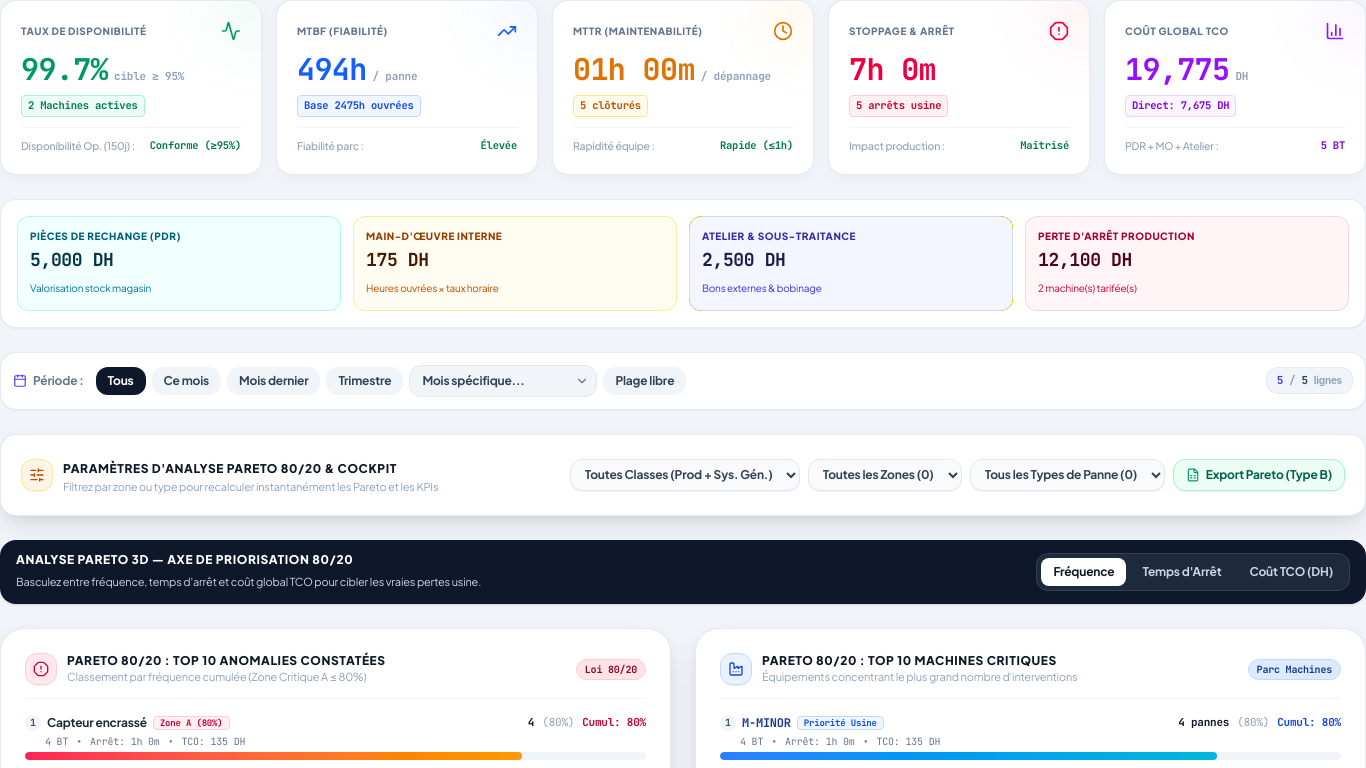
Scenario: Corrective Phase B2 — 3D Industrial Pareto (COUNT | DOWNTIME | COST) › renders TCO cockpit and switches 3D Pareto dimension interactively in AnalyseCorrectiveTab
This screenshot has width=1366, height=768.
Expected: the element with test id "analyse-tco-kpi-card" is shown, [1104,0,1365,174]
Expected: the element with test id "analyse-tco-breakdown-strip" is shown, [0,198,1365,328]
Click the tab with test id "pareto-dim-COST".
click(1291, 572)  # box [1237,558,1345,586]
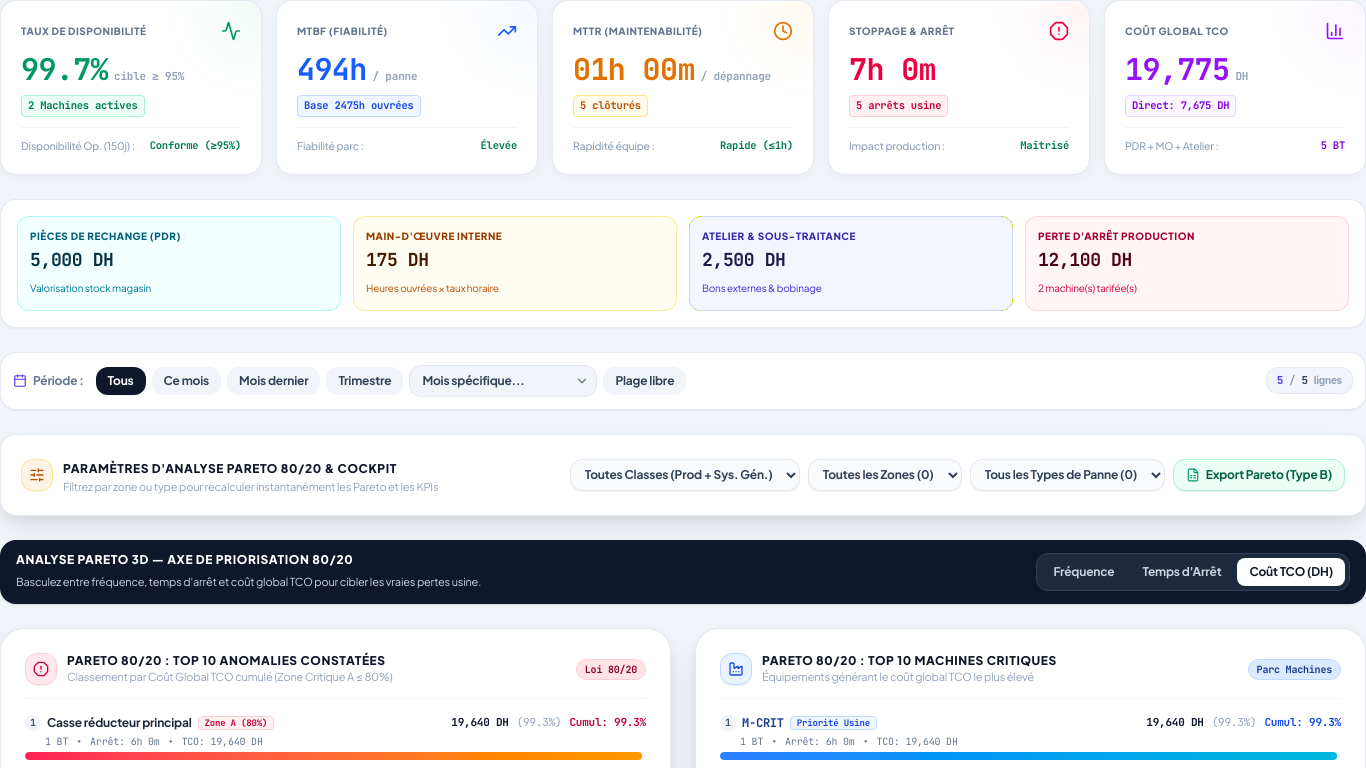
Expected: the text "Classement par Coût Global TCO cumulé" is shown, [67,670,392,683]
